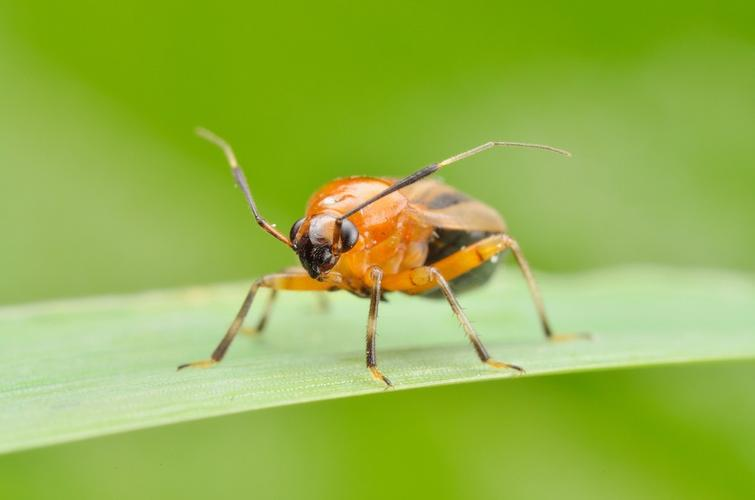Curculionidae: (176, 125, 596, 392)
